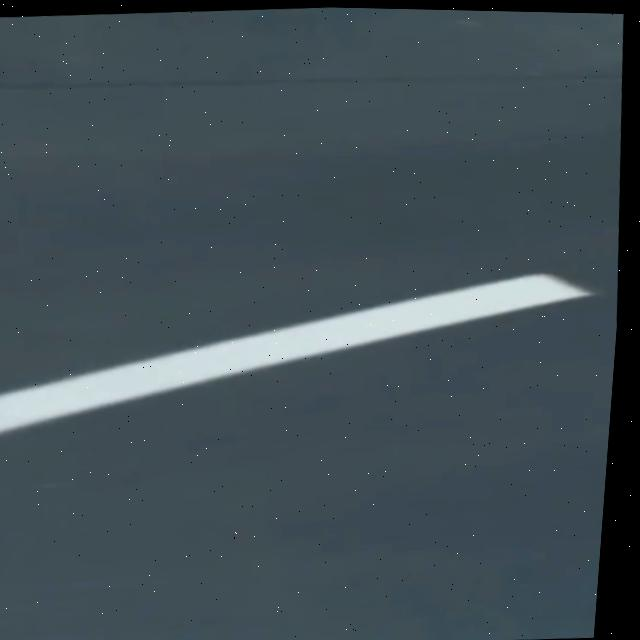center: (0, 274, 593, 434)
